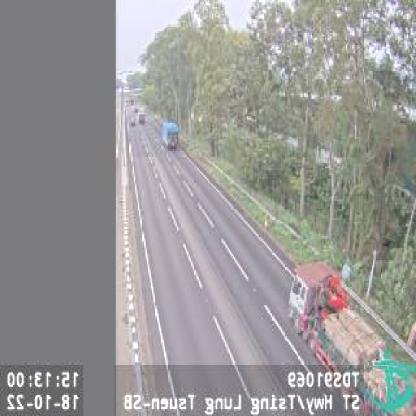Car: (136, 110, 145, 125)
Truck: (289, 264, 412, 416), (160, 121, 178, 151)
